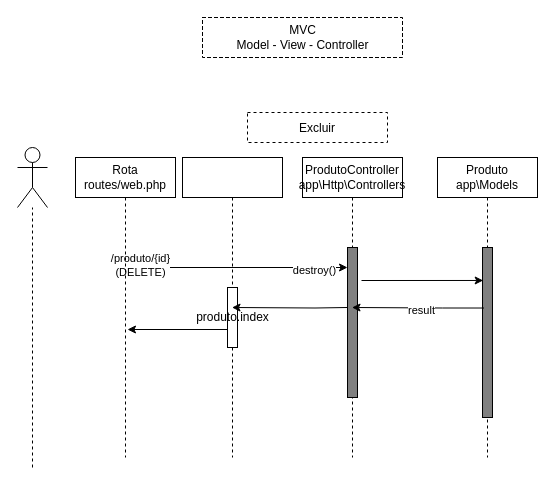
This 555x486 diagram has some shape labels left out. Each missing label, with the box of its shape:
Actor: (16, 146, 48, 208)
VIEW resources\views: (182, 156, 282, 458)
